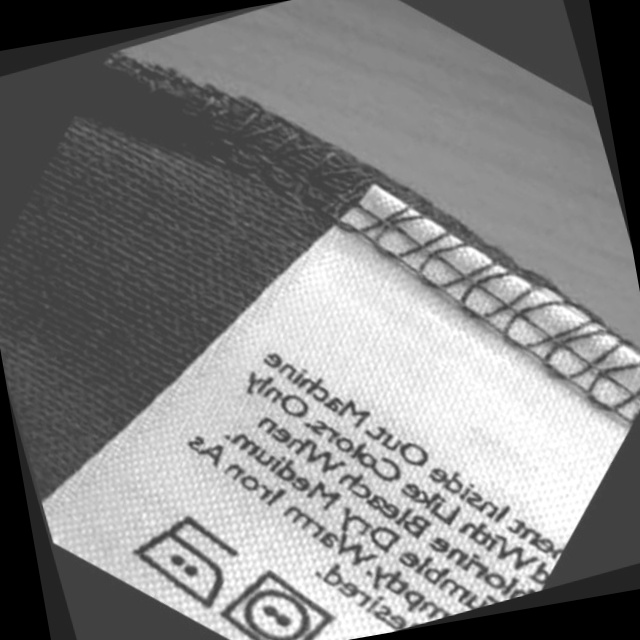iron_medium: (119, 503, 250, 624)
tumble_dry_medium: (208, 557, 339, 640)
